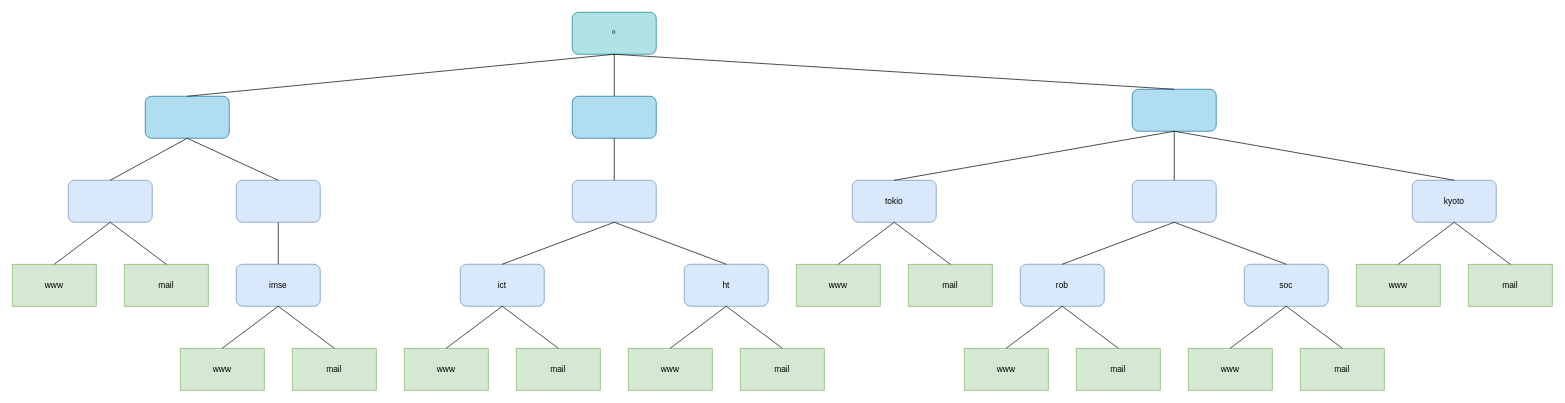
Some shapes in this 1565 by 403 pixel diagram are drawn without their labels. Here are the shapes that lost their labels. From the top down, the centre of each, then its label:
At point (187, 117): "es".
At point (614, 117): "no".
At point (1174, 110): "jp".
At point (110, 201): "us".
At point (278, 201): "cnm".
At point (614, 201): "norut".
At point (1174, 201): "chiba".
